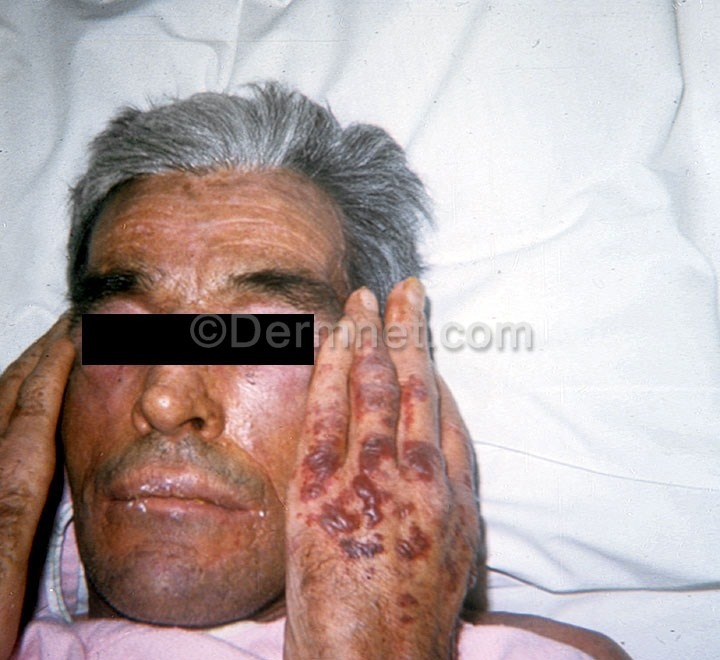Melasma: (293, 367, 480, 647), (0, 361, 204, 556)
